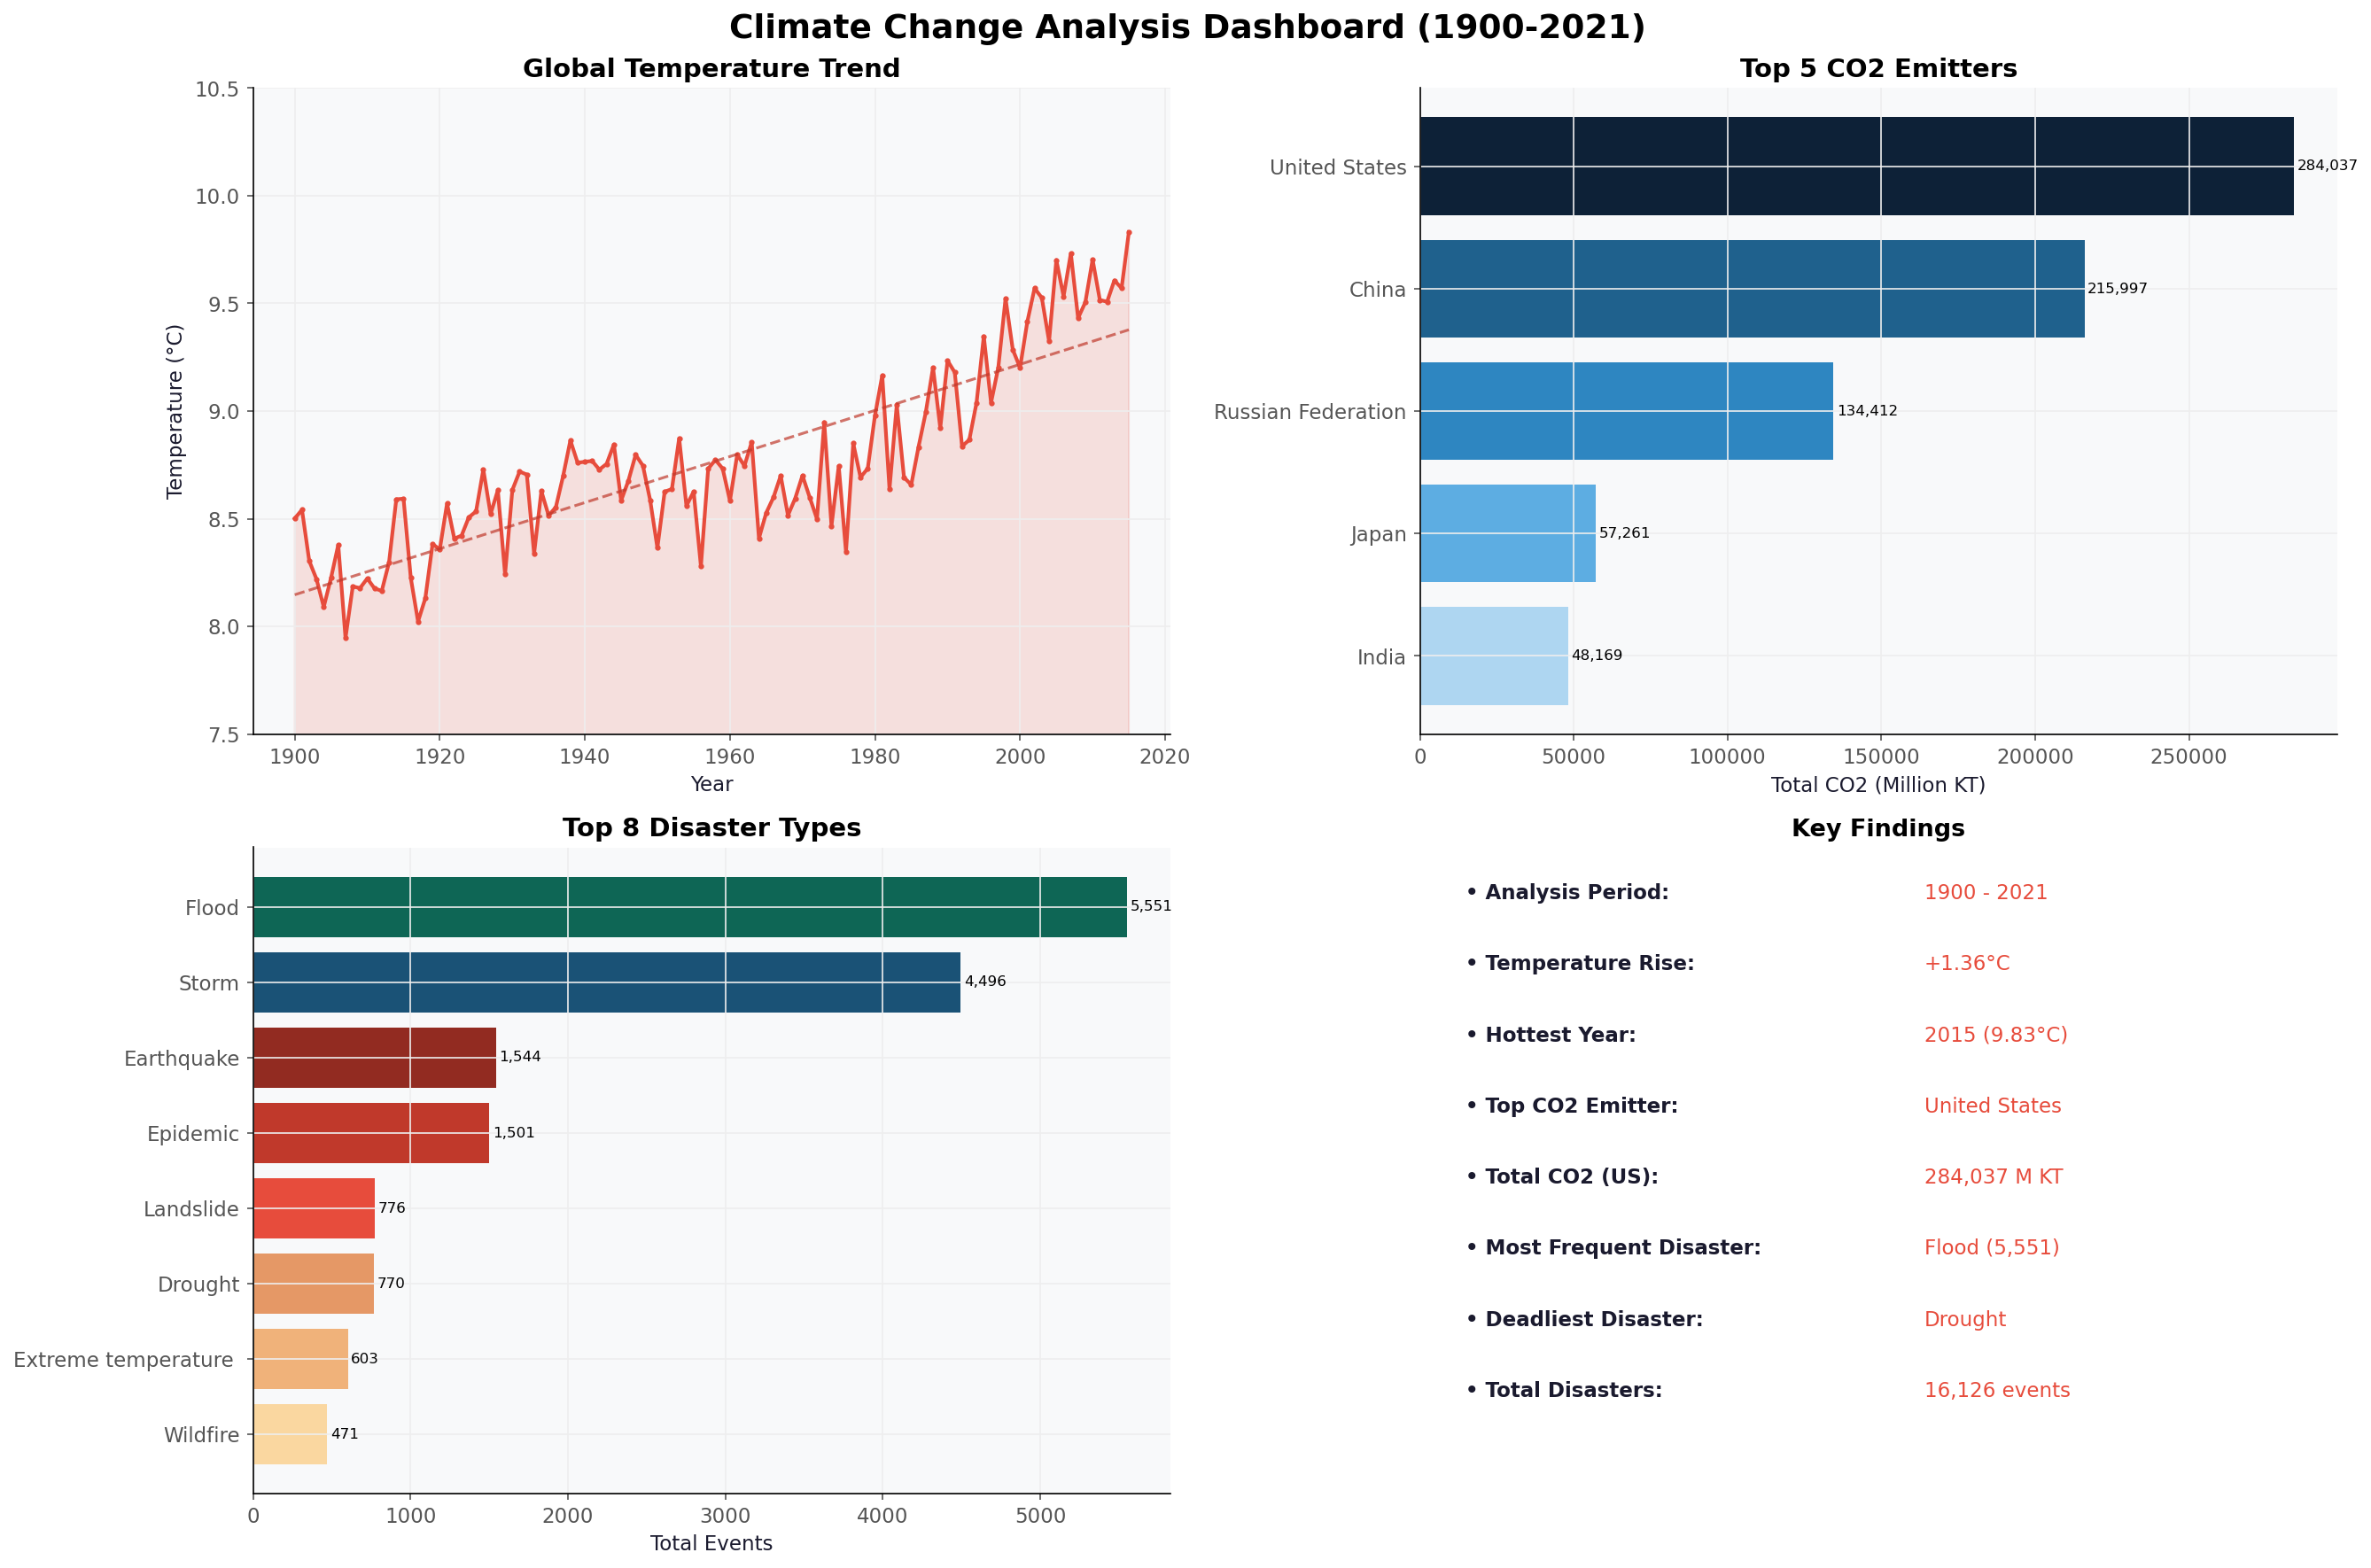

This screenshot's page, from the dashboard's own definition file:
{"tool":"powerbi","page":{"name":"Page 1","canvas":[1280,720],"ordinal":0},"visuals":[{"type":"lineChart","title":"Temperature Trend 1900-2021","fields":{"Y":["Sum(temp_by_decade.Avg_Temperature)"],"Category":["temp_by_decade.Decade"]},"box":[639.4,80.8,574.3,319.7],"z":0},{"type":"clusteredBarChart","title":"Top 10 CO2 Emitters","fields":{"Category":["top10_co2_countries.country_name"],"Y":["Sum(top10_co2_countries.Total_CO2_Million_KT)"]},"box":[25.3,82,564.6,319.7],"z":1000},{"type":"clusteredBarChart","title":" Disasters by Type","fields":{"Y":["Sum(disasters_by_type (2).Total_Events)"],"Category":["disasters_by_type (2).Disaster Type"]},"box":[24.1,423.5,565.8,278.7],"z":2000},{"type":"cardVisual","title":"Total Disasters","fields":{"Data":["Sum(disasters_by_type (2).Total_Events)"]},"box":[639.4,423.5,266.6,138.7],"z":3000},{"type":"cardVisual","title":"Total Deaths","fields":{"Data":["Sum(disasters_by_type (2).Total_Deaths)"]},"box":[933.8,423.5,279.9,138.7],"z":4000},{"type":"cardVisual","title":"Hottest Decade Avg Temp","fields":{"Data":["Max(temp_by_decade.Avg_Temperature)"]},"box":[996.5,573.1,217.2,129.1],"z":5000},{"type":"cardVisual","title":"Hottest Year Avg Temp","fields":{"Data":["Max(hottest_years.Avg_Temp)"]},"box":[786.6,573.1,197.9,129.1],"z":6000},{"type":"textbox","title":"Hottest Year","box":[639.4,573.1,133.9,129.1],"z":7000},{"type":"textbox","box":[154.4,10.9,950.7,53.1],"z":8000}]}

Visuals, with their boxes on the page's 1280x720 design canvas (x1, y1, x2, y2). These are canvas units, not pixel positions in the 2371x1568 screenshot, which may show the page scaled, cropped or inside an application window:
"Temperature Trend 1900-2021" lineChart: [639,81,1214,400]
"Top 10 CO2 Emitters" clusteredBarChart: [25,82,590,402]
" Disasters by Type" clusteredBarChart: [24,424,590,702]
"Total Disasters" cardVisual: [639,424,906,562]
"Total Deaths" cardVisual: [934,424,1214,562]
"Hottest Decade Avg Temp" cardVisual: [996,573,1214,702]
"Hottest Year Avg Temp" cardVisual: [787,573,984,702]
"Hottest Year" textbox: [639,573,773,702]
textbox: [154,11,1105,64]
